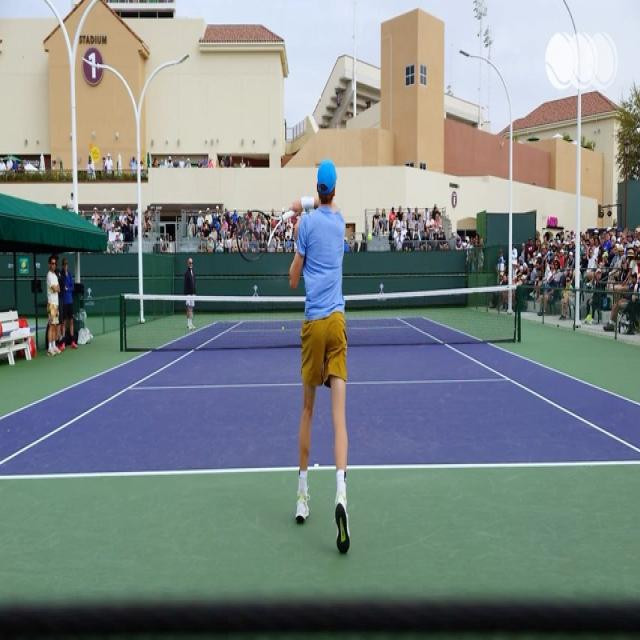forehand-finish: (236, 163, 357, 556)
